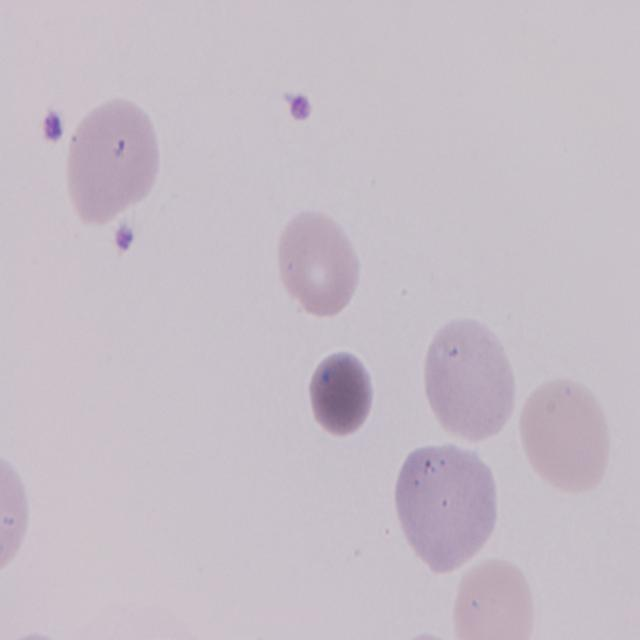RBC: (393, 442, 498, 582), (64, 90, 168, 223), (514, 370, 614, 496), (421, 315, 518, 443), (272, 205, 366, 321), (448, 551, 542, 640), (1, 429, 33, 591)
Spherocyte: (302, 346, 376, 444)
